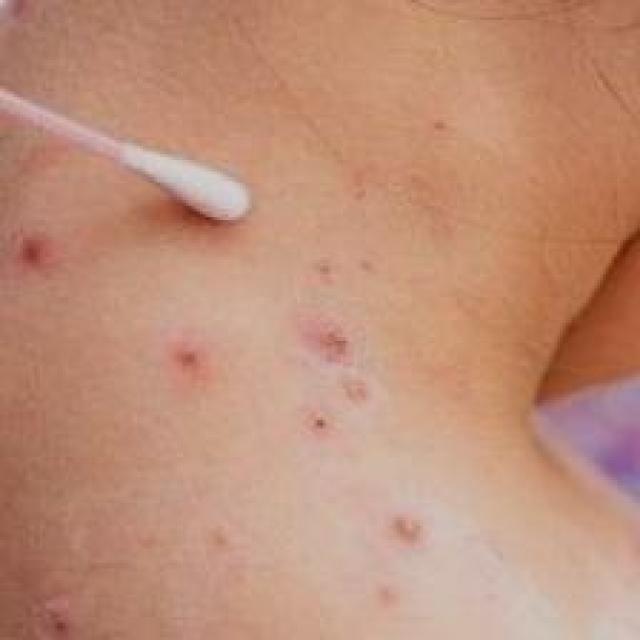monkeypox: (16, 150, 518, 640)
